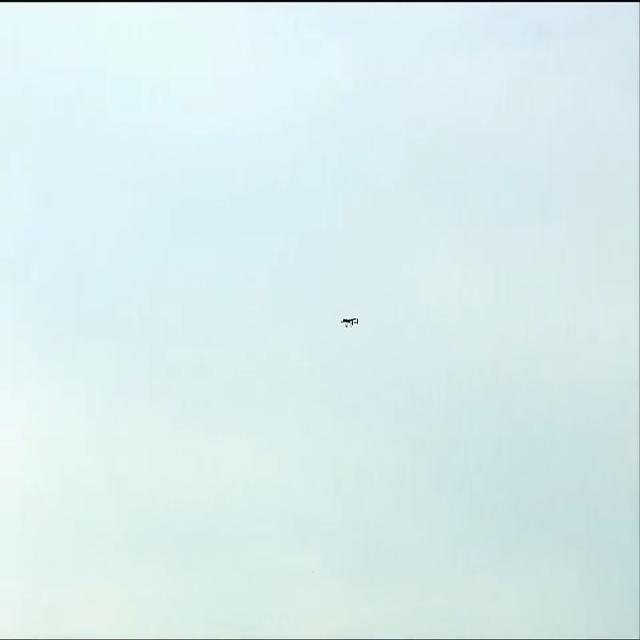iha: (341, 312, 359, 329)
